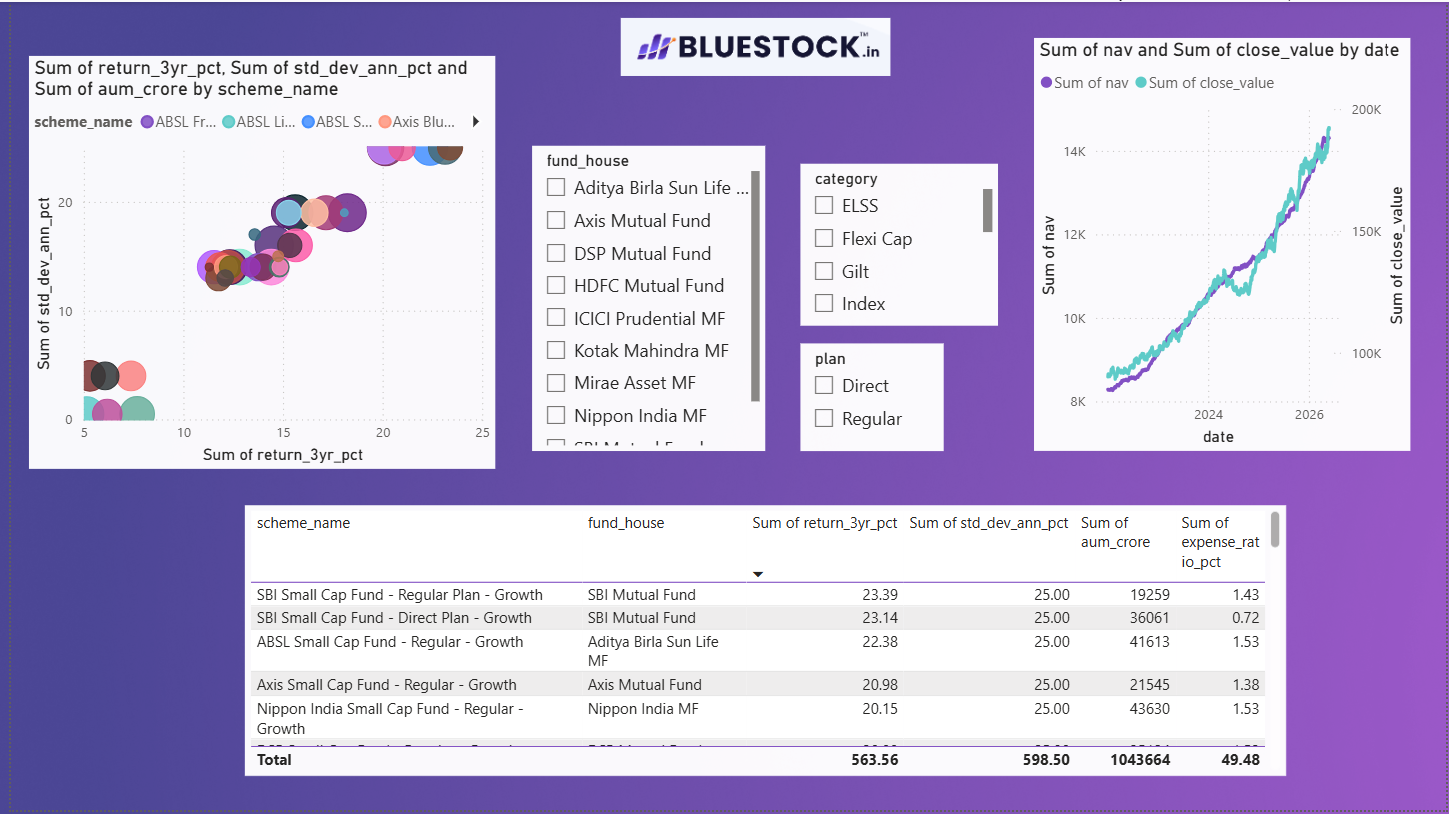

The dashboard page shown, as its layout file describes it:
{"tool":"powerbi","page":{"name":"Page 2 - Fund Performance","canvas":[1280,720],"ordinal":1},"visuals":[{"type":"scatterChart","fields":{"X":["Sum(scheme_performance_cleaned.return_3yr_pct)"],"Y":["Sum(scheme_performance_cleaned.std_dev_ann_pct)"],"Size":["Sum(scheme_performance_cleaned.aum_crore)"],"Series":["scheme_performance_cleaned.scheme_name"]},"box":[16,48,416,368],"z":0},{"type":"tableEx","fields":{"Values":["scheme_performance_cleaned.scheme_name","scheme_performance_cleaned.fund_house","Sum(scheme_performance_cleaned.return_3yr_pct)","Sum(scheme_performance_cleaned.std_dev_ann_pct)","Sum(scheme_performance_cleaned.aum_crore)","Sum(scheme_performance_cleaned.expense_ratio_pct)"]},"box":[208,448,928,240],"z":1000},{"type":"lineChart","fields":{"Y":["Sum(nav_history_cleaned.nav)"],"Category":["nav_history_cleaned.date"],"Y2":["Sum(10_benchmark_indices.close_value)"]},"box":[912,32,336,368],"z":2000},{"type":"slicer","fields":{"Values":["scheme_performance_cleaned.fund_house"]},"box":[464,128,208,272],"z":3000},{"type":"slicer","fields":{"Values":["scheme_performance_cleaned.category"]},"box":[704,144,176,144],"z":4000},{"type":"slicer","fields":{"Values":["scheme_performance_cleaned.plan"]},"box":[704,304,128,96],"z":5000},{"type":"image","box":[544,0,240,80],"z":5001}]}

Visuals, with their boxes in screenshot pixels (x1, y1, x2, y2), scaled from the page's 1280x720 canvas onto the 1449x814 screenshot:
scatterChart - Sum(scheme_performance_cleaned.return_3yr_pct) x Sum(scheme_performance_cleaned.std_dev_ann_pct): pyautogui.locateOnScreen(18, 54, 489, 470)
tableEx - scheme_performance_cleaned.scheme_name x scheme_performance_cleaned.fund_house: pyautogui.locateOnScreen(235, 506, 1286, 778)
lineChart - Sum(nav_history_cleaned.nav) x nav_history_cleaned.date: pyautogui.locateOnScreen(1032, 36, 1413, 452)
slicer - scheme_performance_cleaned.fund_house: pyautogui.locateOnScreen(525, 145, 761, 452)
slicer - scheme_performance_cleaned.category: pyautogui.locateOnScreen(797, 163, 996, 326)
slicer - scheme_performance_cleaned.plan: pyautogui.locateOnScreen(797, 344, 942, 452)
image: pyautogui.locateOnScreen(616, 0, 888, 90)
